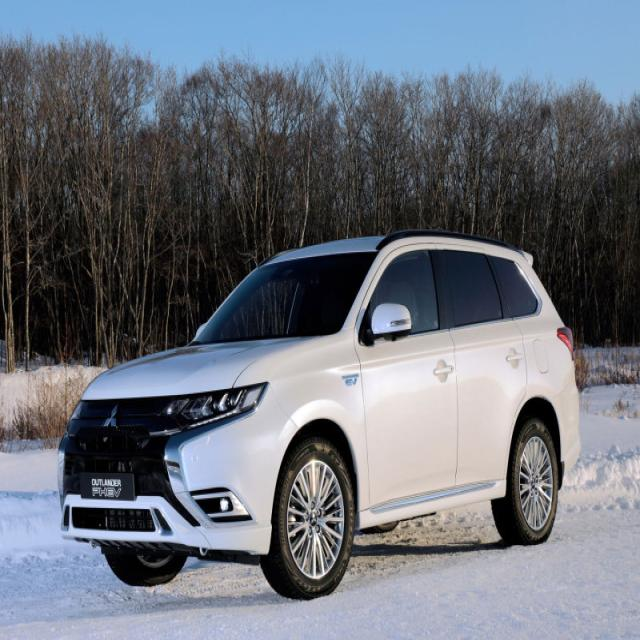light_vehicle: (58, 229, 582, 601)
